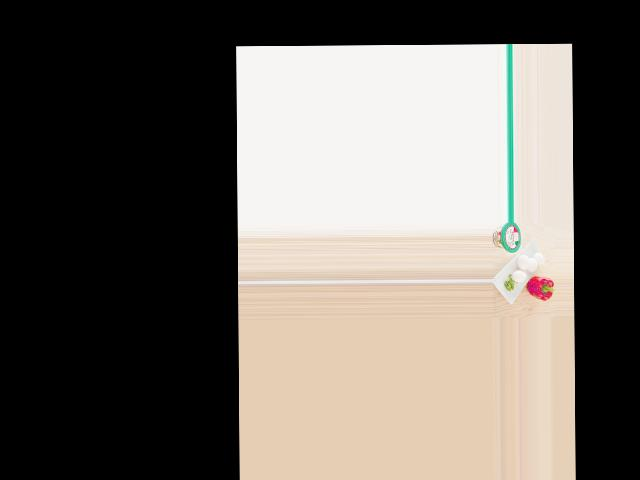bell_pepper: (527, 271, 553, 302)
